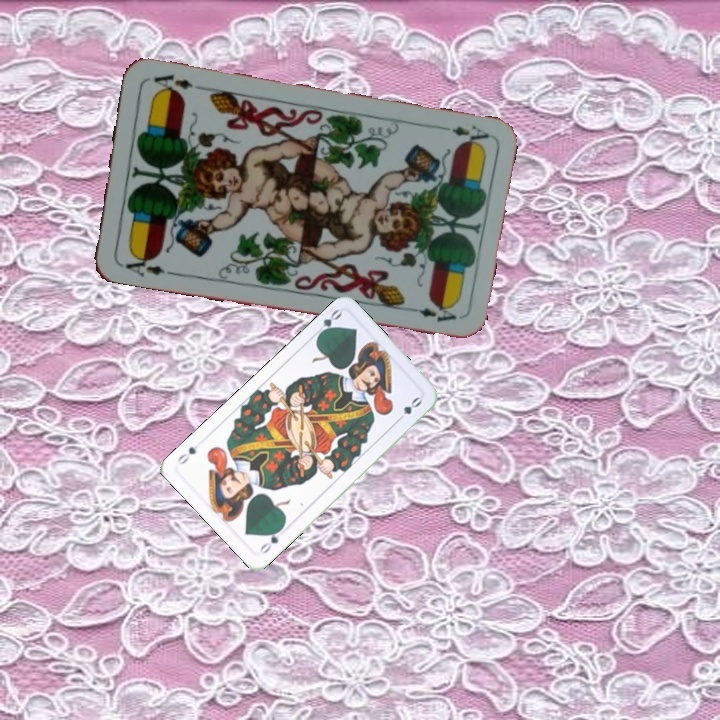EA: (115, 249, 174, 279), (434, 121, 492, 150)
GO: (310, 305, 344, 340), (256, 523, 286, 557)
